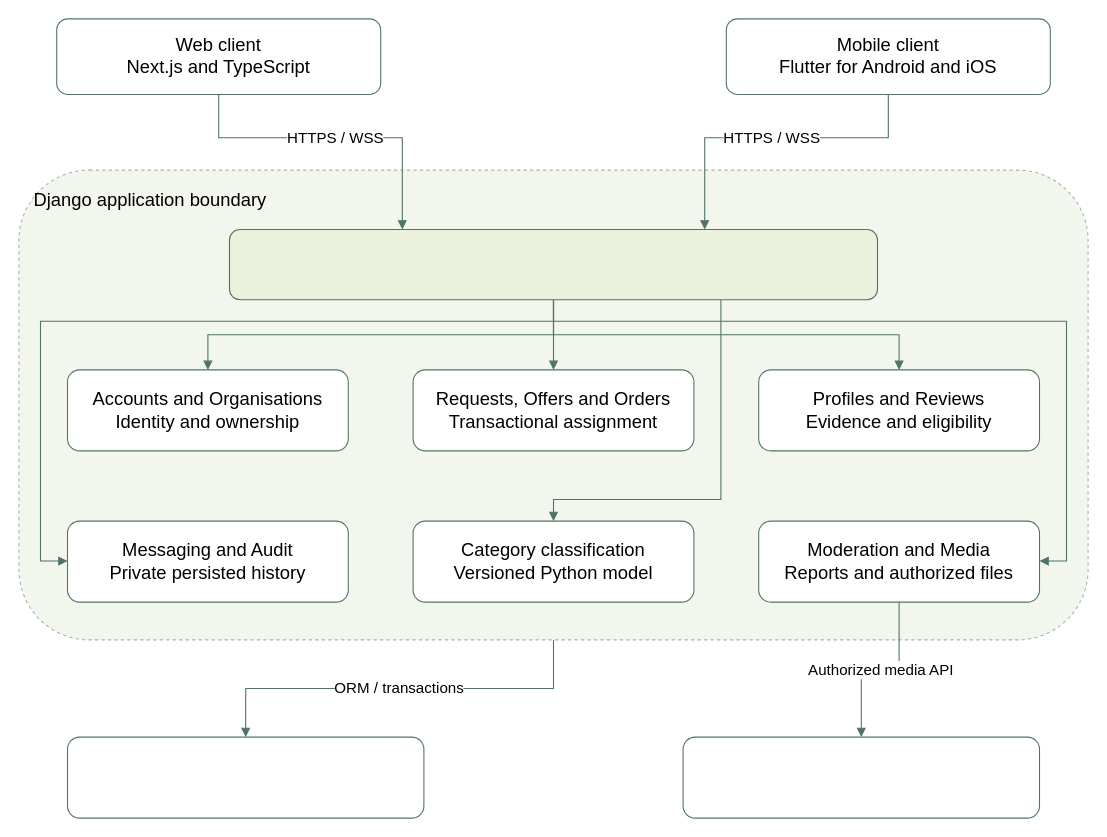
The diagram is 1107 pixels wide and 837 high, and some of its shapes have lost their labels. Each missing label, with the centre of its shape:
"Object storage Photos and portfolio files" belongs at point 861,777.
"PostgreSQL Durable records and constraints" belongs at point 245,777.
"REST API and authenticated WebSocket gateway" belongs at point 553,264.
